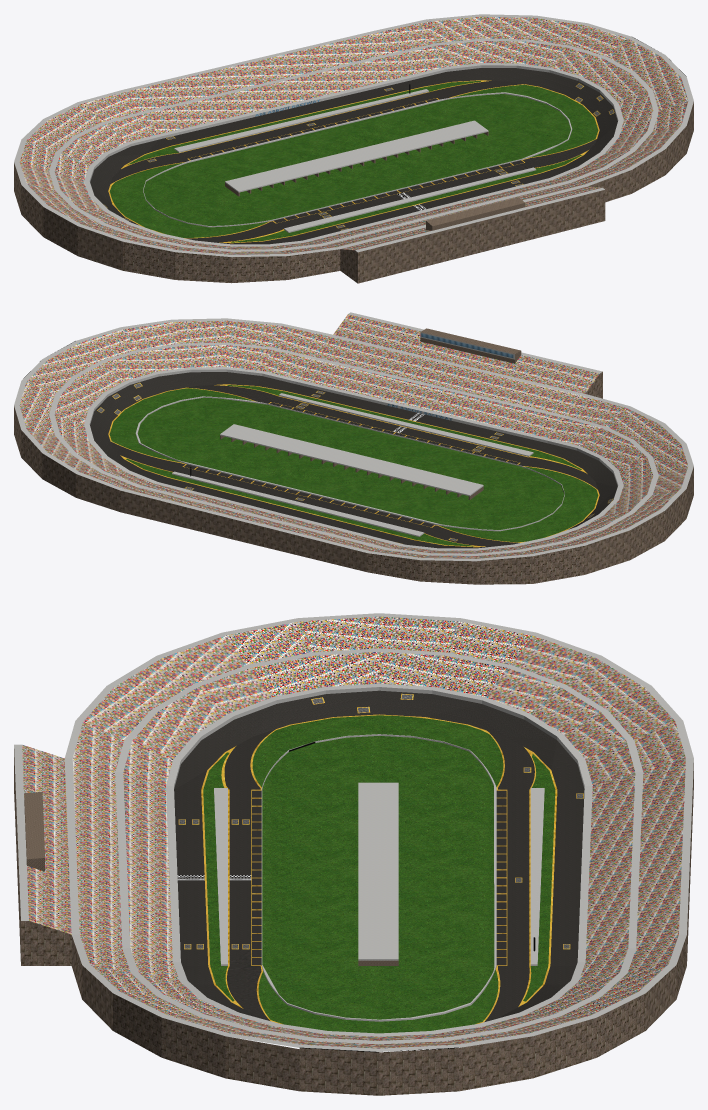
The picture shows the model from 3 angles, top to bottom: view 1: azimuth 30°, elevation 25°; view 2: azimuth 150°, elevation 25°; view 3: azimuth 270°, elevation 25°; orthographic projection. The views are drawn at different scales.
Parts seen in each view (by area): view 1: Course_Model_Main-audience2, Course_Model_Main-Grass, Course_Model_Main-Concrete_Wall, Course_Model_Main-wall2, Course_Model_Main-Road5, Course_Model_Main-curb, Course_Model_Main-Road53; view 2: Course_Model_Main-audience2, Course_Model_Main-Grass, Course_Model_Main-Concrete_Wall, Course_Model_Main-wall2, Course_Model_Main-Road5, Course_Model_Main-curb, Course_Model_Main-Road53; view 3: Course_Model_Main-audience2, Course_Model_Main-Grass, Course_Model_Main-Concrete_Wall, Course_Model_Main-Road5, Course_Model_Main-wall2, Course_Model_Main-curb, Course_Model_Main-Road53.
Part boxes in pixels (x1,y1,x2,y2): Course_Model_Main-audience2: [19, 16, 688, 254]; Course_Model_Main-Grass: [109, 81, 598, 242]; Course_Model_Main-Concrete_Wall: [14, 14, 693, 257]; Course_Model_Main-wall2: [14, 102, 693, 283]; Course_Model_Main-Road5: [90, 68, 617, 244]; Course_Model_Main-curb: [105, 80, 614, 243]; Course_Model_Main-Road53: [503, 139, 596, 169]; Course_Model_Main-audience2: [19, 314, 688, 558]; Course_Model_Main-Grass: [109, 385, 598, 546]; Course_Model_Main-Concrete_Wall: [14, 312, 693, 561]; Course_Model_Main-wall2: [14, 328, 693, 584]; Course_Model_Main-Road5: [90, 372, 617, 548]; Course_Model_Main-curb: [97, 382, 613, 547]; Course_Model_Main-Road53: [187, 385, 293, 407]; Course_Model_Main-audience2: [22, 616, 685, 1048]; Course_Model_Main-Grass: [203, 715, 555, 1033]; Course_Model_Main-Concrete_Wall: [14, 613, 693, 1051]; Course_Model_Main-Road5: [174, 690, 584, 1021]; Course_Model_Main-wall2: [14, 749, 693, 1095]; Course_Model_Main-curb: [178, 693, 583, 1024]; Course_Model_Main-Road53: [227, 950, 269, 1020].
Bounding box in the file's own units: 148442 × 8367 × 97201.
19 materials, 19 textured.
